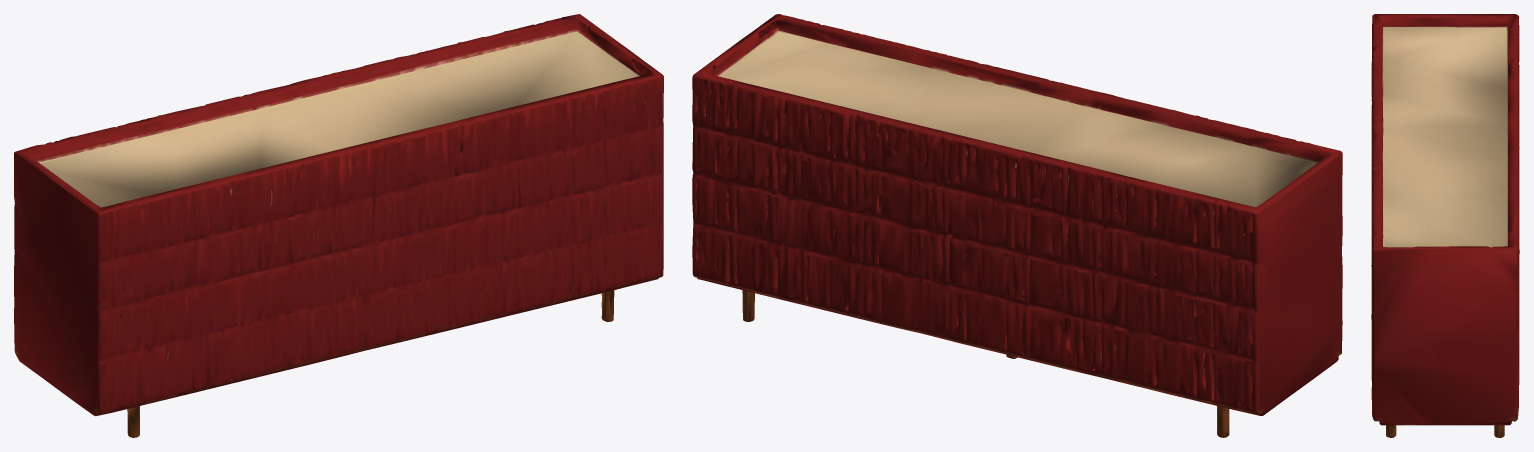
The model's file is oxblood-reeded-credenza.glb.
3 renders of one model, left to right at view 1: azimuth 30°, elevation 25°; view 2: azimuth 150°, elevation 25°; view 3: azimuth 270°, elevation 25°, orthographic. The views are drawn at different scales.
Parts seen in each view (by area): view 1: world; view 2: world; view 3: world.
Part boxes in pixels (<box>): world: <box>14,14,663,437</box>; world: <box>692,14,1342,437</box>; world: <box>1371,14,1519,437</box>.
Bounding box in the file's own units: 1 × 0.4093 × 0.2664.
1 material, 1 textured.
